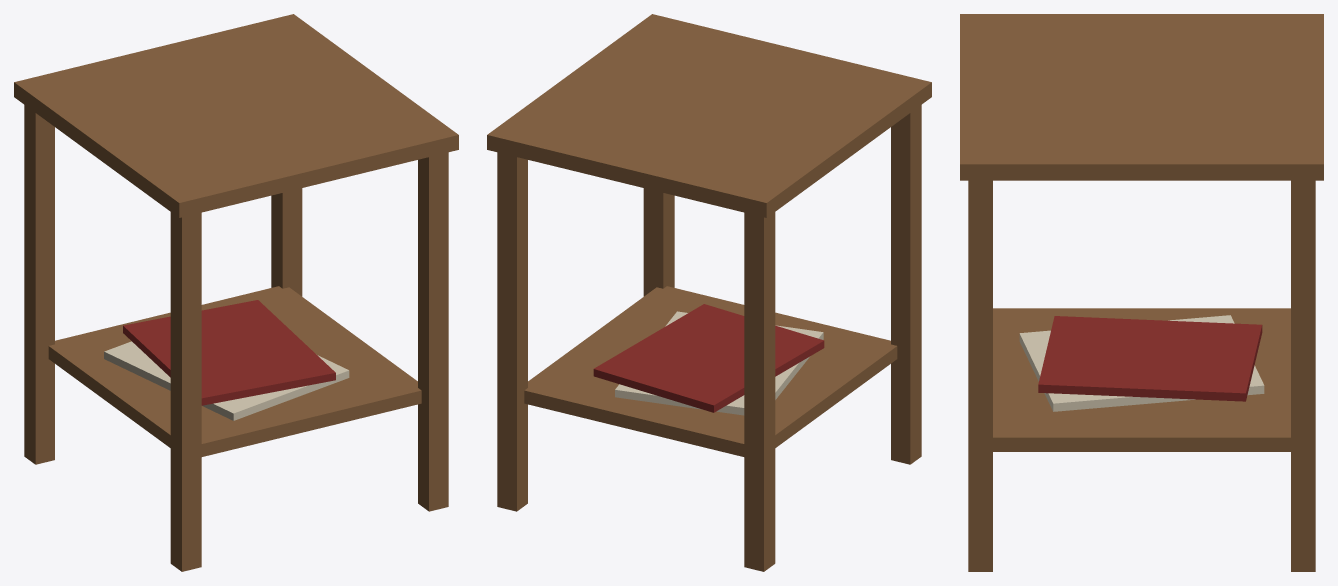
Rendered from side-table.glb.
The picture shows the model from 3 angles, left to right: view 1: azimuth 30°, elevation 25°; view 2: azimuth 150°, elevation 25°; view 3: azimuth 270°, elevation 25°; orthographic projection. The views are drawn at different scales.
Parts seen in each view (by area): view 1: side-table; view 2: side-table; view 3: side-table.
Boxes of the visible parts, bbox=[...] form: side-table: bbox=[14, 14, 458, 571]; side-table: bbox=[487, 14, 931, 571]; side-table: bbox=[960, 14, 1323, 571].
Bounding box in the file's own units: 1.57 × 2 × 1.6.
